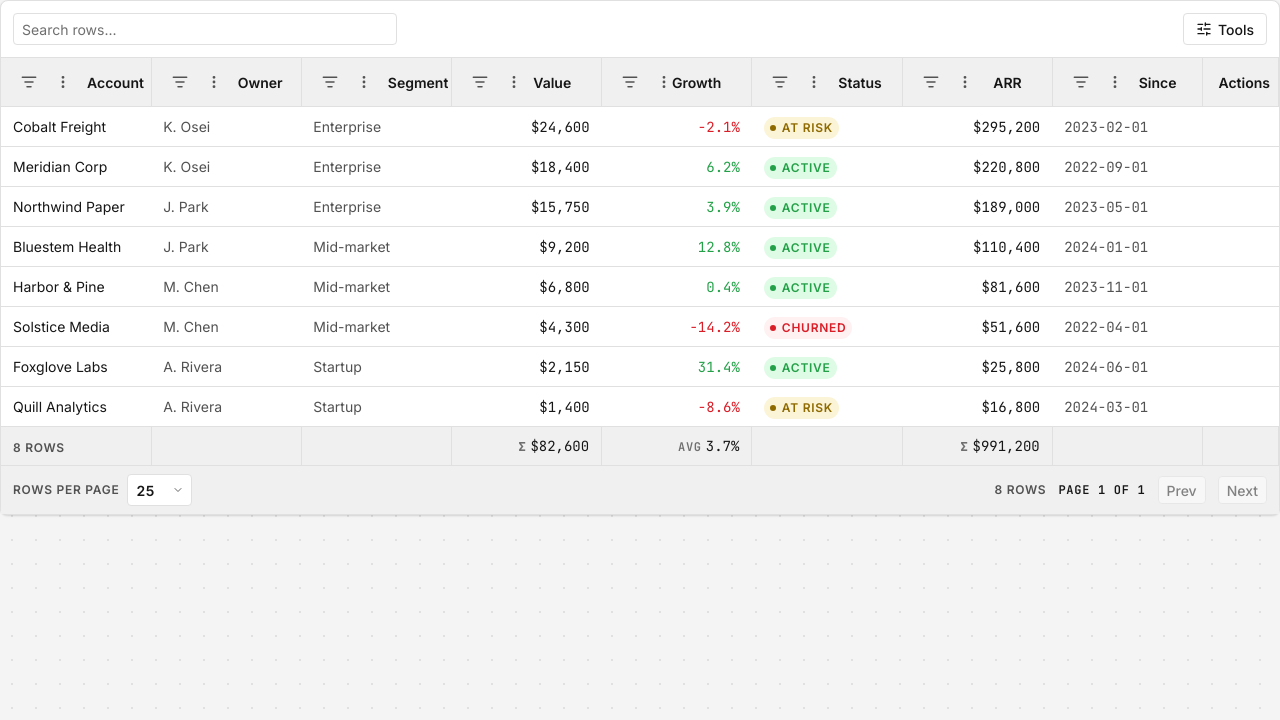
Test: column-menu per-column filter › filters numeric columns through the menu
Click the button named "value column menu" at (514, 82), box [498,66,530,98]
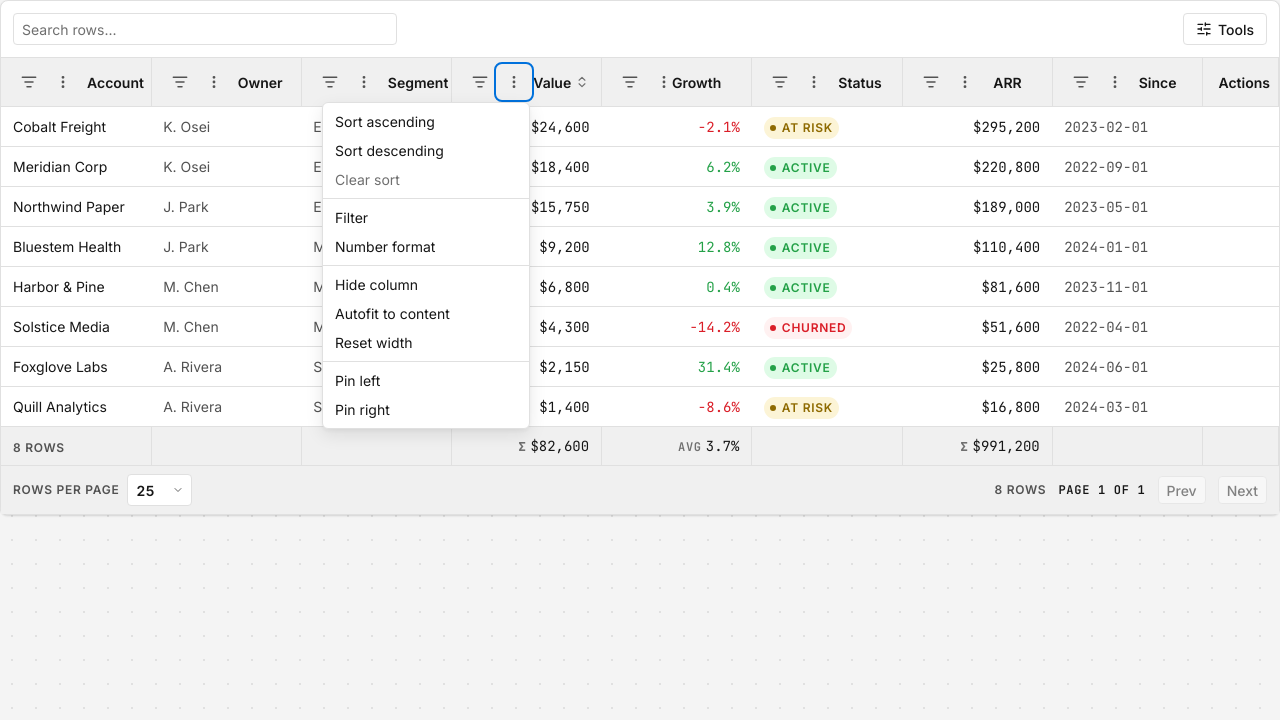
Click the menu item "Filter" at (426, 218), box [323,203,529,232]
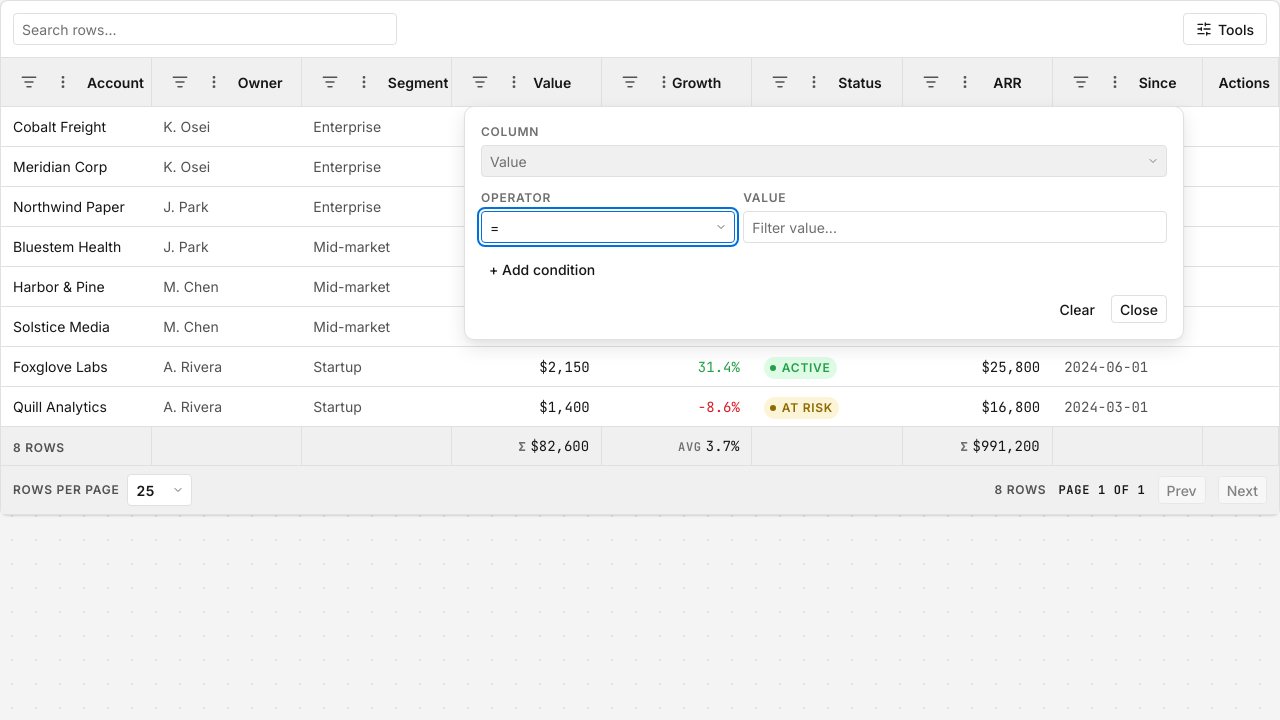
Select ">" in the dropdown named "value filter operator" at (608, 227), box [481,211,735,243]
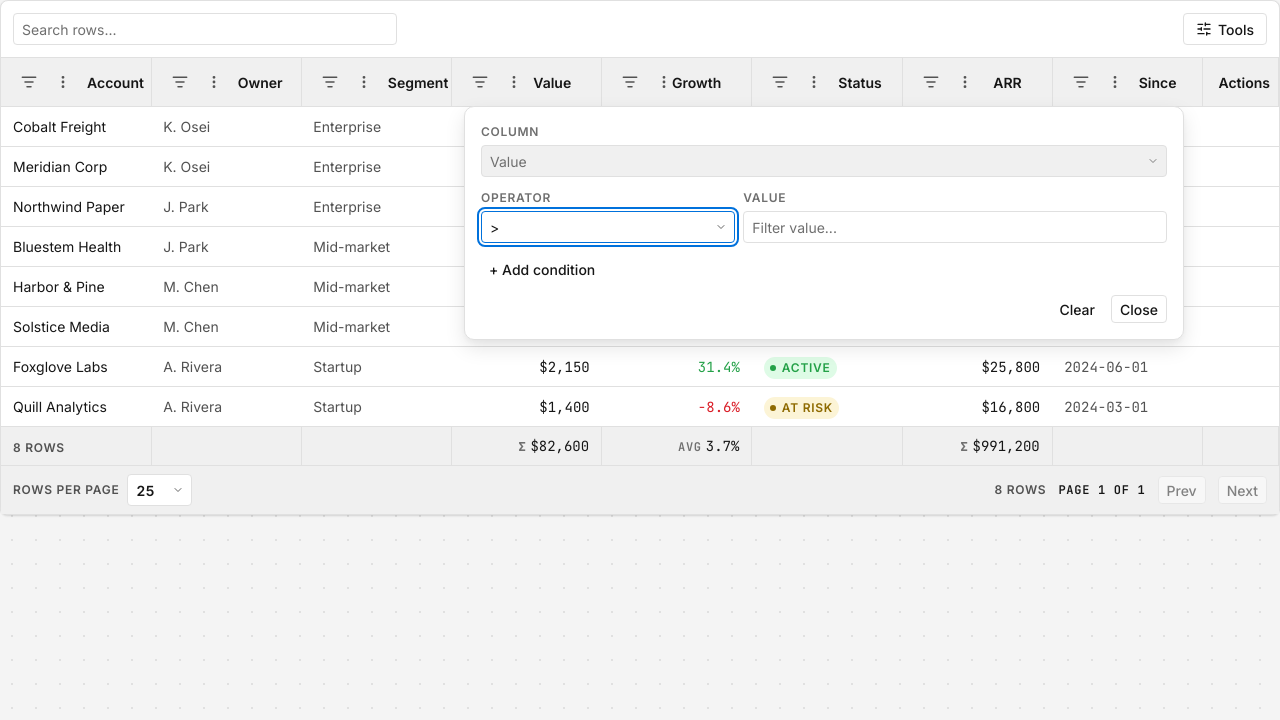
Type "20000" into the number field named "value filter value" at (955, 227), box [743,211,1167,243]
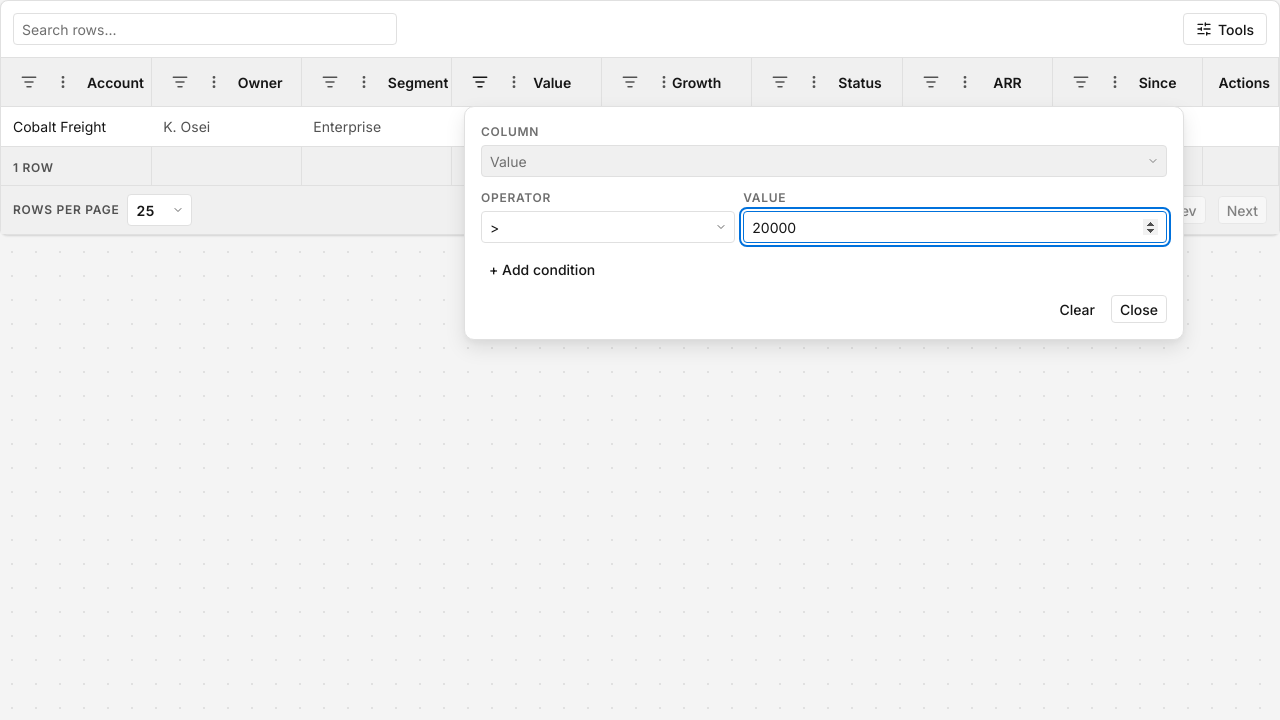
Check: the text "Cobalt Freight" is shown, box [13,118,106,135]
Check: the text "Meridian Corp" is gone
